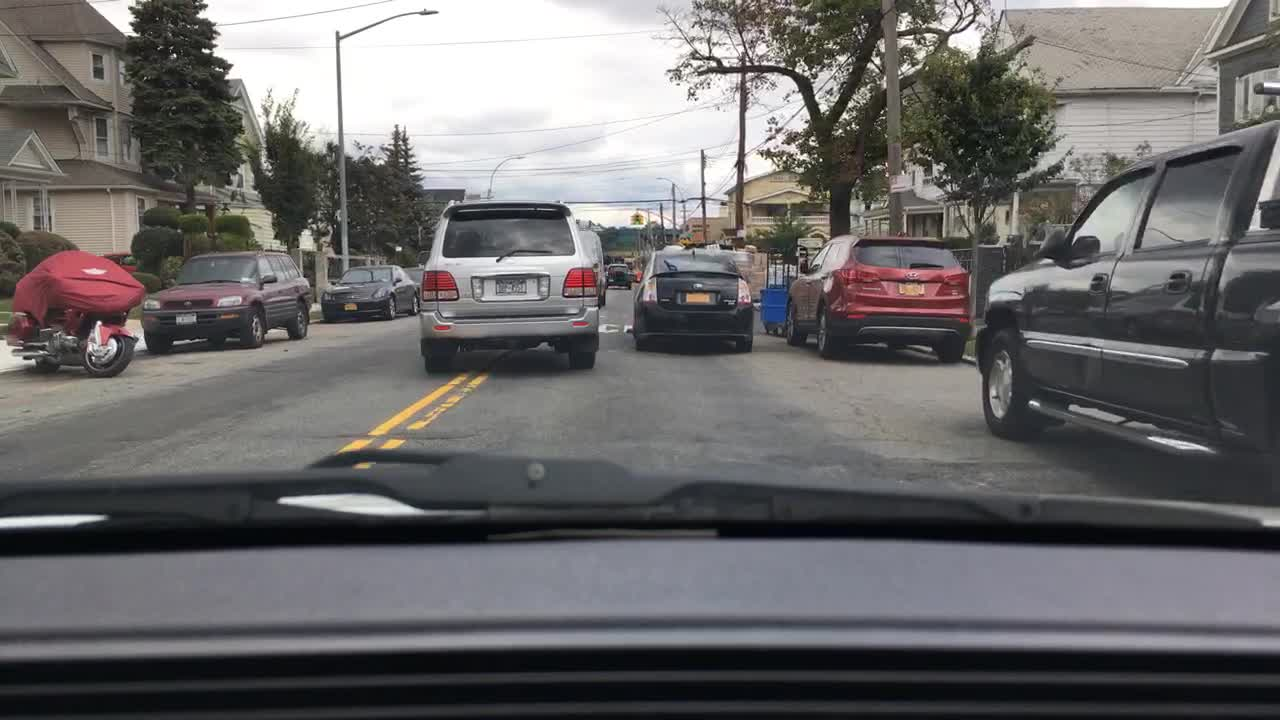car: (971, 82, 1278, 469), (418, 198, 602, 373), (785, 231, 972, 364), (138, 250, 316, 355), (633, 251, 754, 351), (319, 263, 420, 323), (579, 229, 608, 306), (604, 263, 634, 290), (632, 270, 642, 281)
motor: (3, 247, 146, 378)
traffic light: (639, 212, 644, 225), (634, 211, 639, 224), (629, 212, 634, 224)
